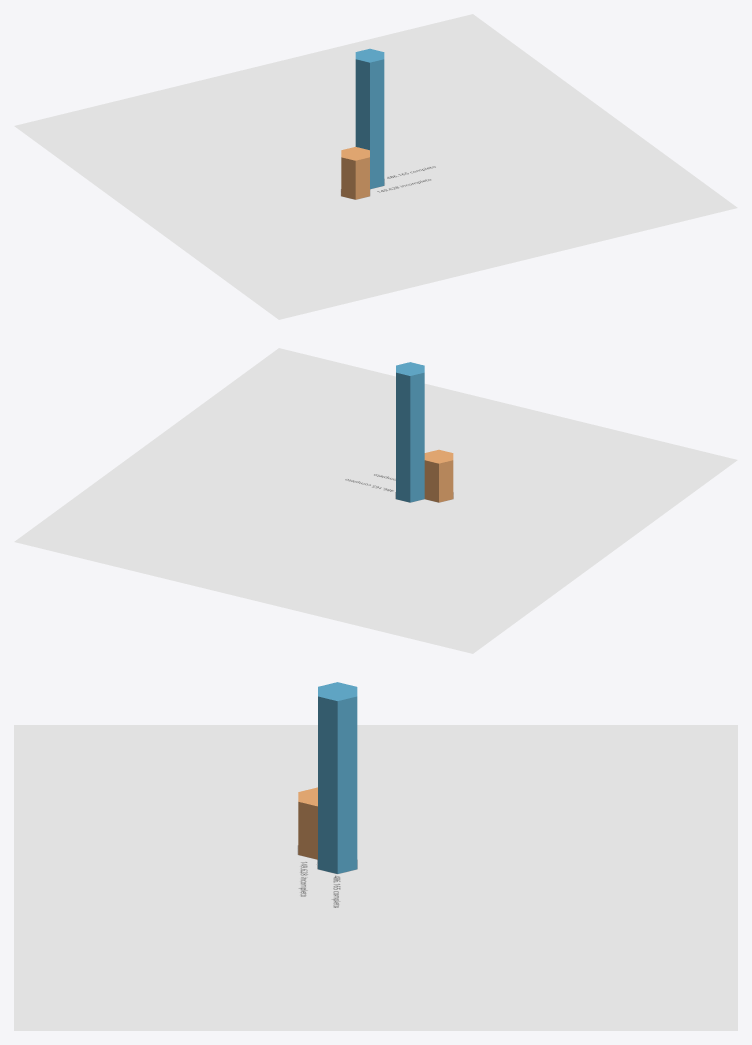
File: primaria.gltf
3 views of the same model, one above another, from view 1: azimuth 30°, elevation 25°; view 2: azimuth 150°, elevation 25°; view 3: azimuth 270°, elevation 25° (orthographic). The views are drawn at different scales.
Parts seen in each view (by area): view 1: GSI Elevation Tile, Cuadrícula; view 2: GSI Elevation Tile, Cuadrícula; view 3: GSI Elevation Tile, Cuadrícula.
Part boxes in pixels (box(x1,y1,x2,y2)): GSI Elevation Tile: box(14, 14, 737, 319); Cuadrícula: box(341, 48, 384, 199); GSI Elevation Tile: box(14, 348, 737, 653); Cuadrícula: box(396, 362, 453, 502); GSI Elevation Tile: box(14, 725, 737, 1030); Cuadrícula: box(298, 682, 357, 873).
Size of the model in its own units: 0.3691 by 0.0972 by 0.3691.
3 materials, 1 textured.
